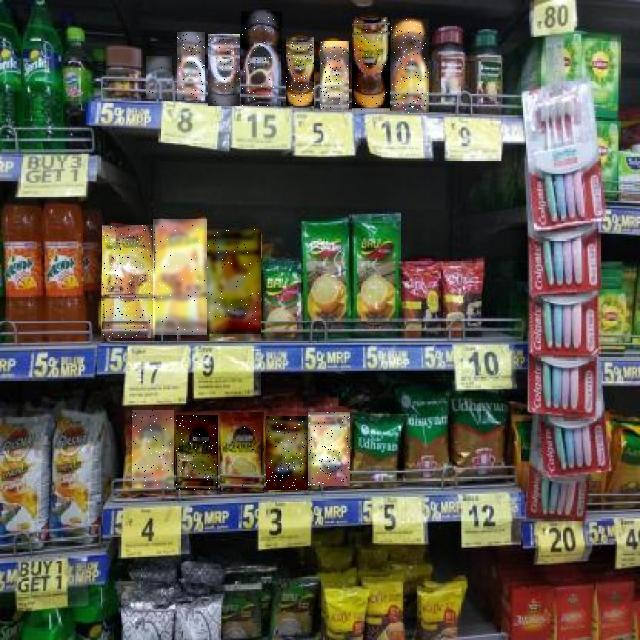Coffee: (153, 219, 207, 335), (102, 225, 155, 338), (207, 230, 261, 336), (241, 11, 282, 106), (352, 18, 390, 112), (391, 19, 429, 113), (221, 412, 265, 493), (132, 410, 174, 488), (176, 415, 218, 490), (308, 412, 350, 486), (266, 416, 308, 490), (209, 34, 241, 106), (320, 42, 349, 110), (286, 37, 314, 106), (177, 32, 205, 100), (146, 56, 172, 99)
